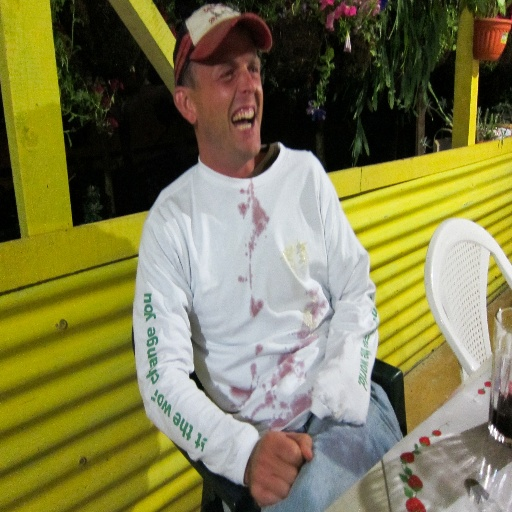hand: (251, 435, 317, 498)
